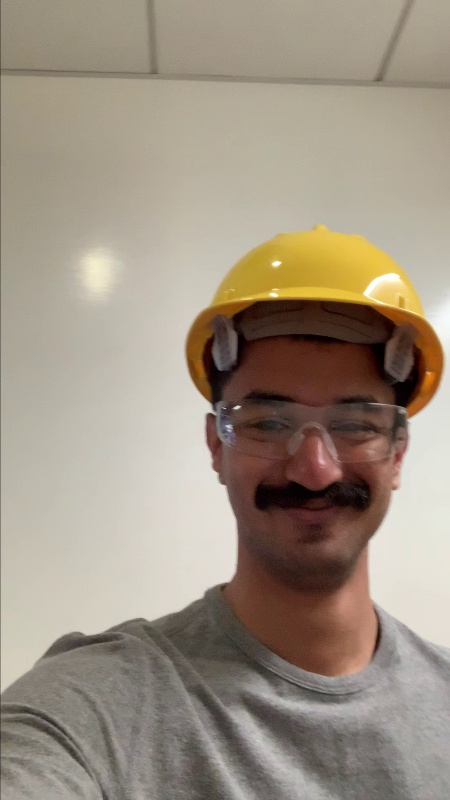glasses: (214, 398, 404, 456)
helmet: (181, 219, 447, 373)
